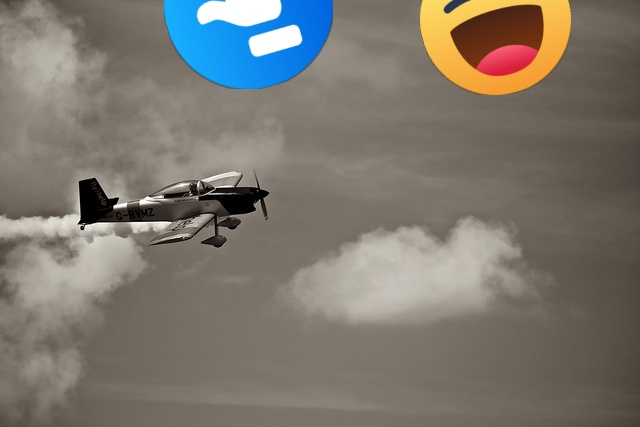haha: (420, 0, 571, 95)
like: (164, 0, 333, 89)
